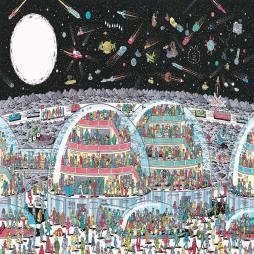odlaw: (16, 172, 20, 180)
wally: (102, 156, 104, 165)
wenda: (74, 128, 76, 140)
wizard_whitebeard: (197, 142, 201, 154)
